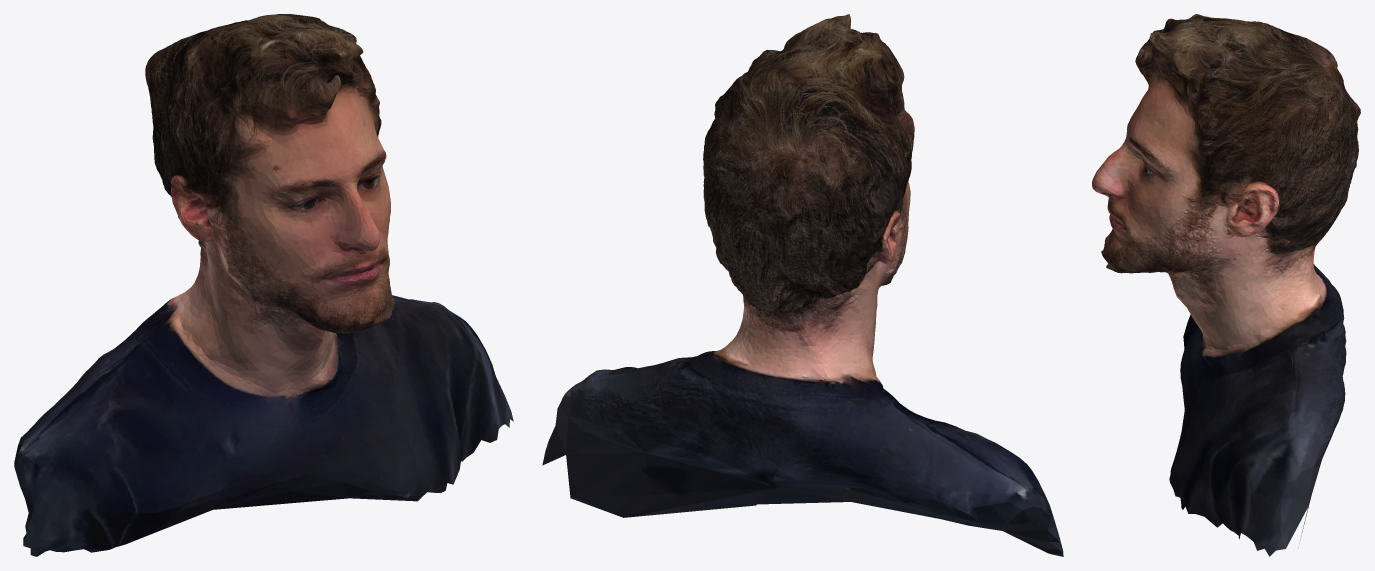
File: Marcial.glb
3 views of the same model, side by side, from view 1: azimuth 30°, elevation 25°; view 2: azimuth 150°, elevation 25°; view 3: azimuth 270°, elevation 25° (orthographic). The views are drawn at different scales.
Visible parts, largest first — view 1: Mesh_0.004; view 2: Mesh_0.004; view 3: Mesh_0.004.
Part boxes in pixels (bbox=[...]): Mesh_0.004: bbox=[14, 14, 513, 556]; Mesh_0.004: bbox=[542, 14, 1063, 556]; Mesh_0.004: bbox=[1092, 14, 1360, 556].
Size of the model in its own units: 0.4678 by 0.4417 by 0.2431.
1 material, 1 textured.
